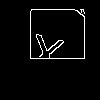X: (25, 25, 69, 77)
